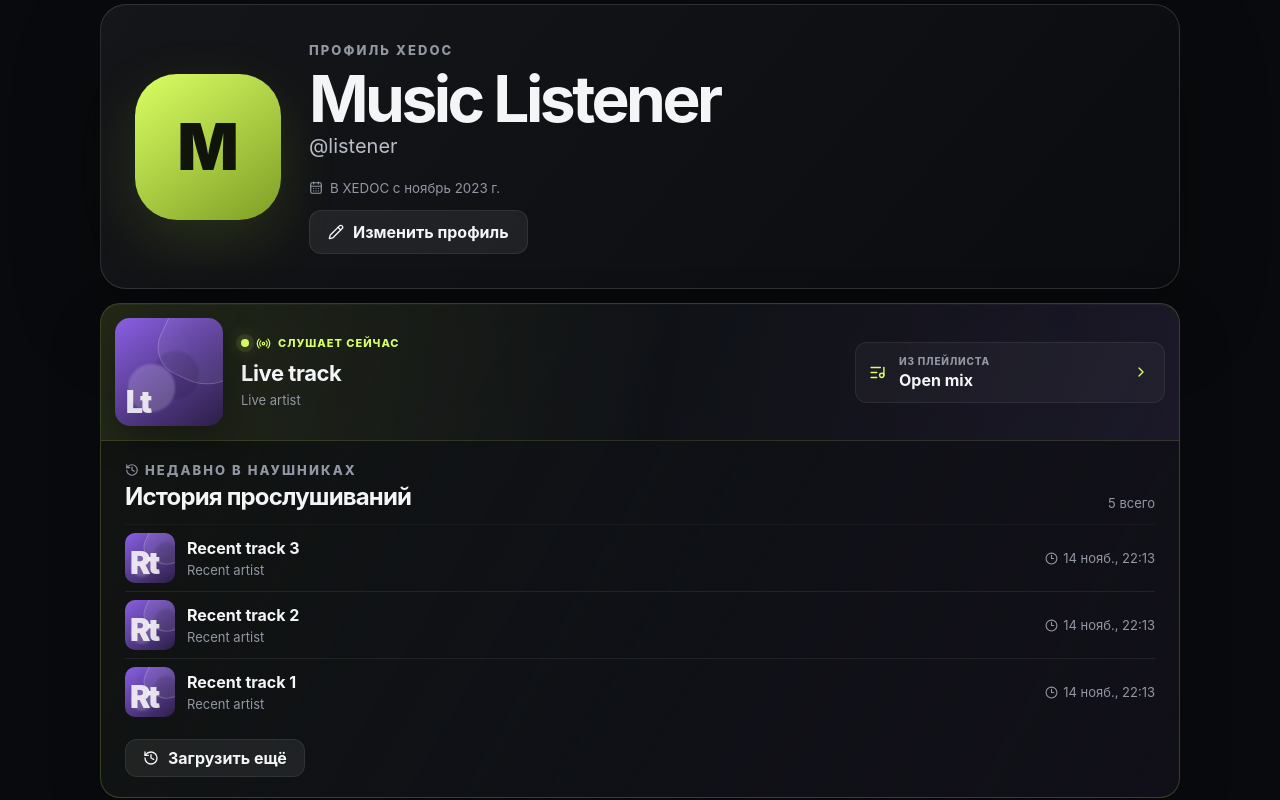
Test case: PublicProfilePage › lets the profile owner change the displayed name
Click the button "Изменить профиль" at (418, 232), box [309,210,528,254]
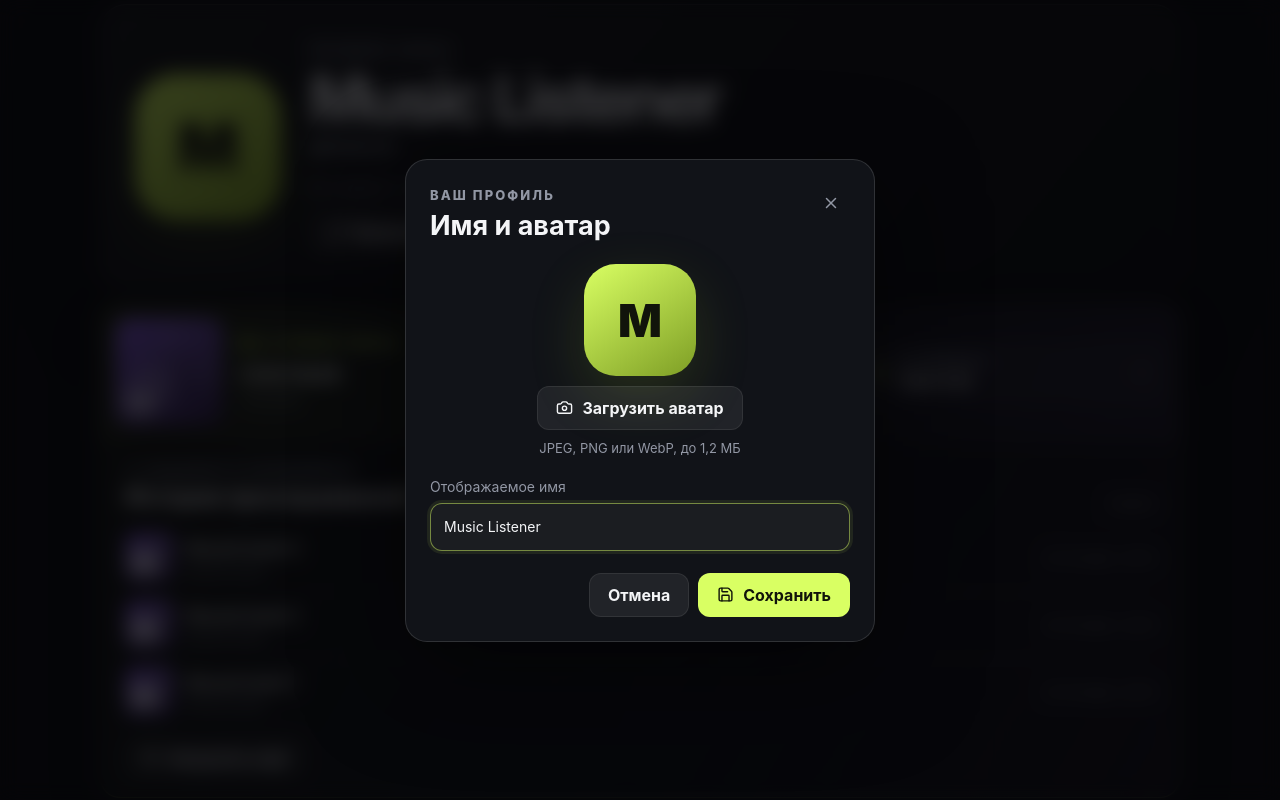
Replace the text in the field labelled "Отображаемое имя" with "Renamed Listener" at (640, 526), box [430,502,850,550]
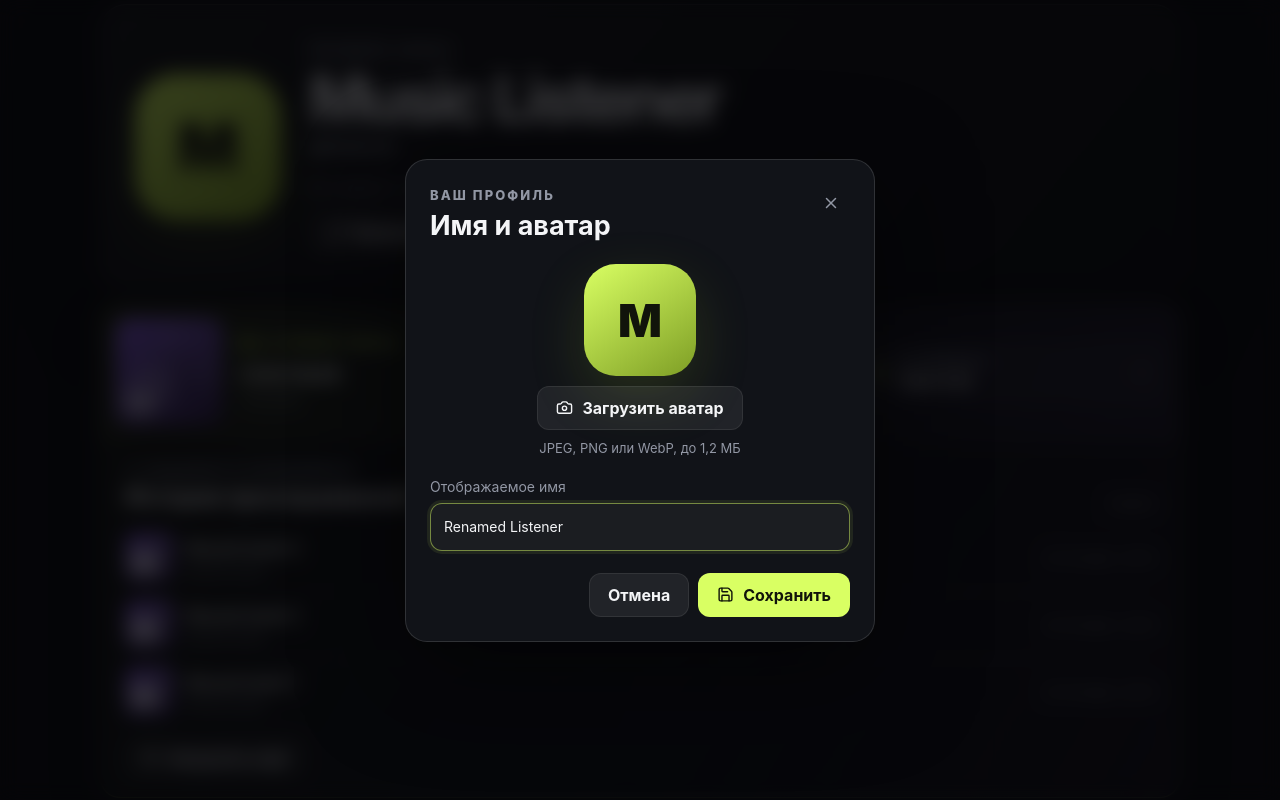
Click the button "Сохранить" at (774, 594), box [698,572,850,616]
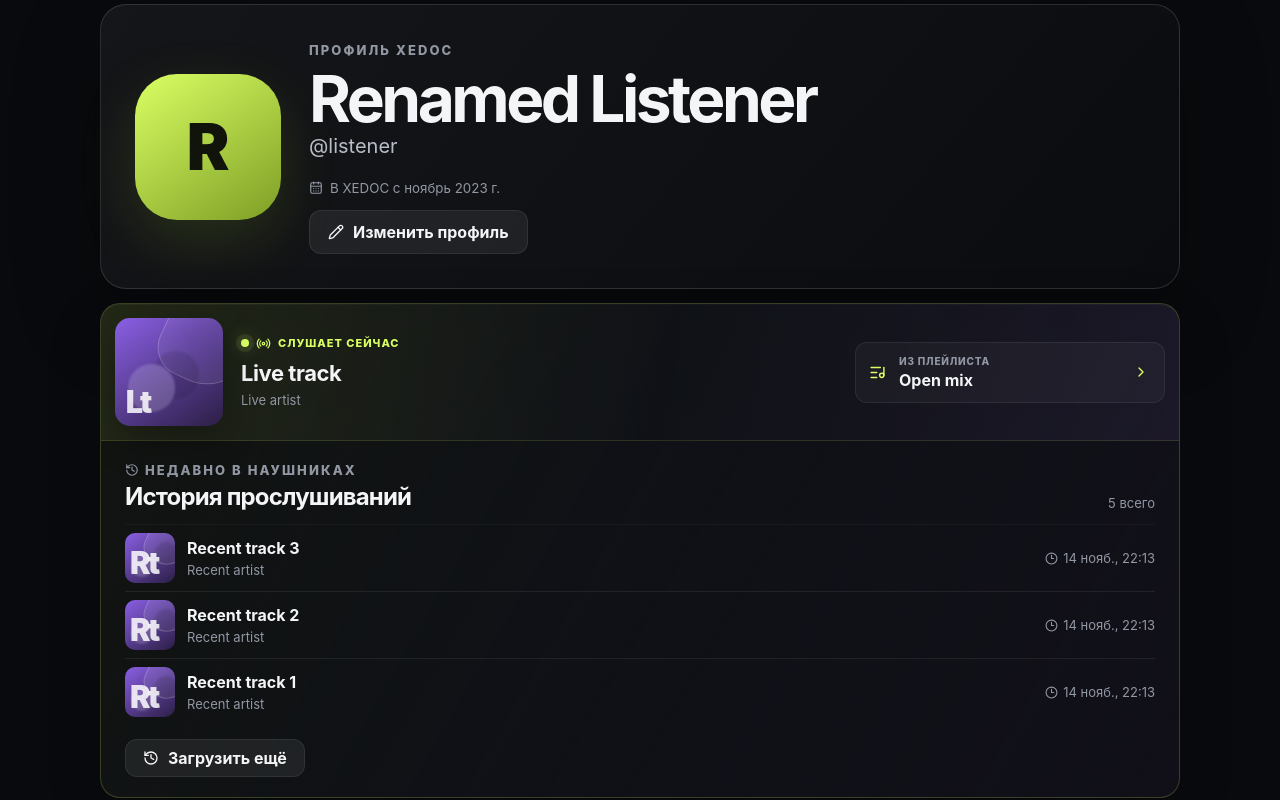
Check: the heading "Renamed Listener" is shown, box [309,67,815,131]
Check: the dialog is gone
